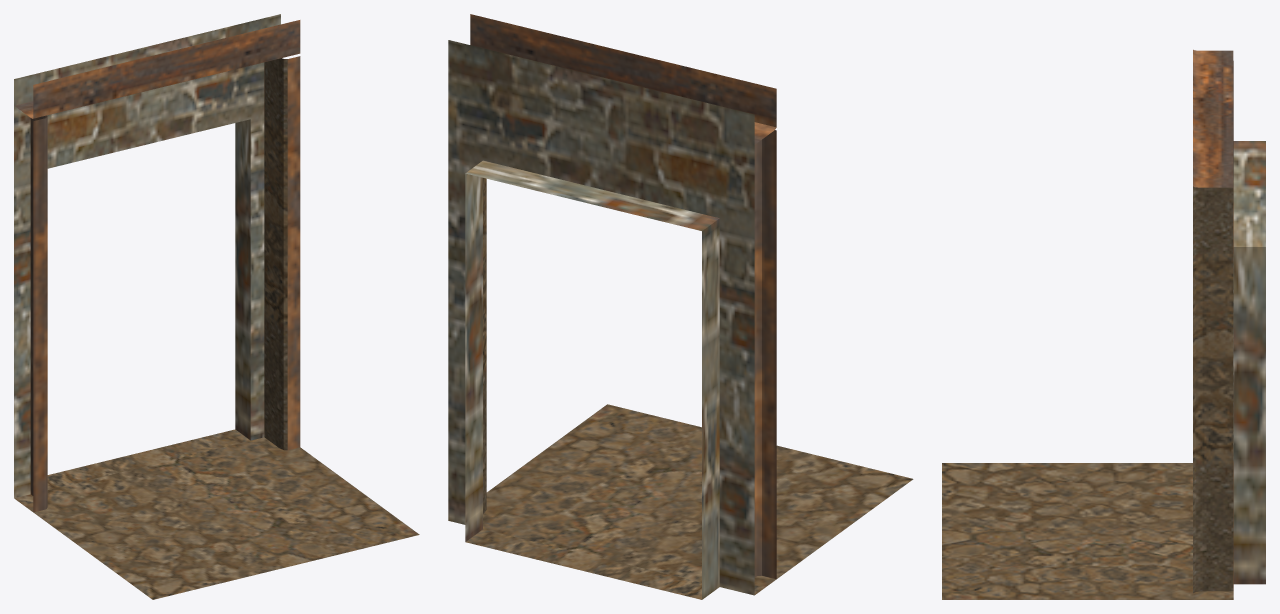
File: structure-gay-doorway.fbx
The picture shows the model from 3 angles, left to right: view 1: azimuth 30°, elevation 25°; view 2: azimuth 150°, elevation 25°; view 3: azimuth 270°, elevation 25°; orthographic projection. The views are drawn at different scales.
Parts seen in each view (by area): view 1: wall-straight-doorway; view 2: wall-straight-doorway; view 3: wall-straight-doorway.
Part boxes in pixels (x1,y1,x2,y2): wall-straight-doorway: (14,14,419,599); wall-straight-doorway: (448,14,913,599); wall-straight-doorway: (942,49,1265,599).
Bounding box in the file's own units: 200 × 306 × 200.
